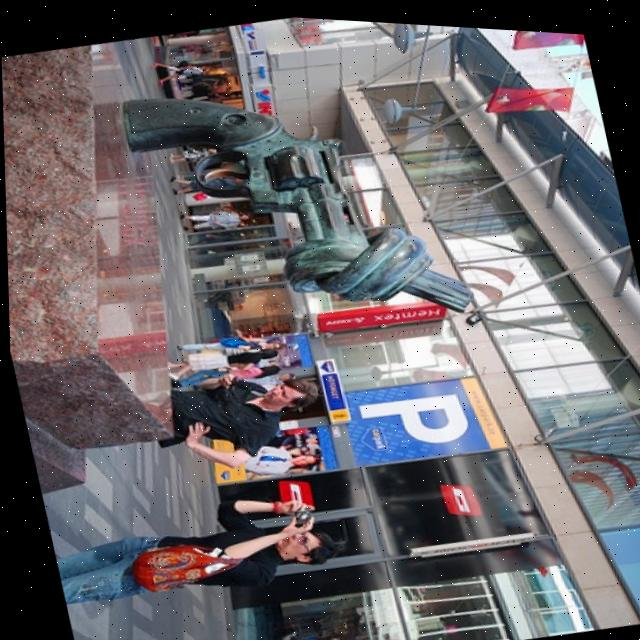pistol: (114, 39, 477, 364)
